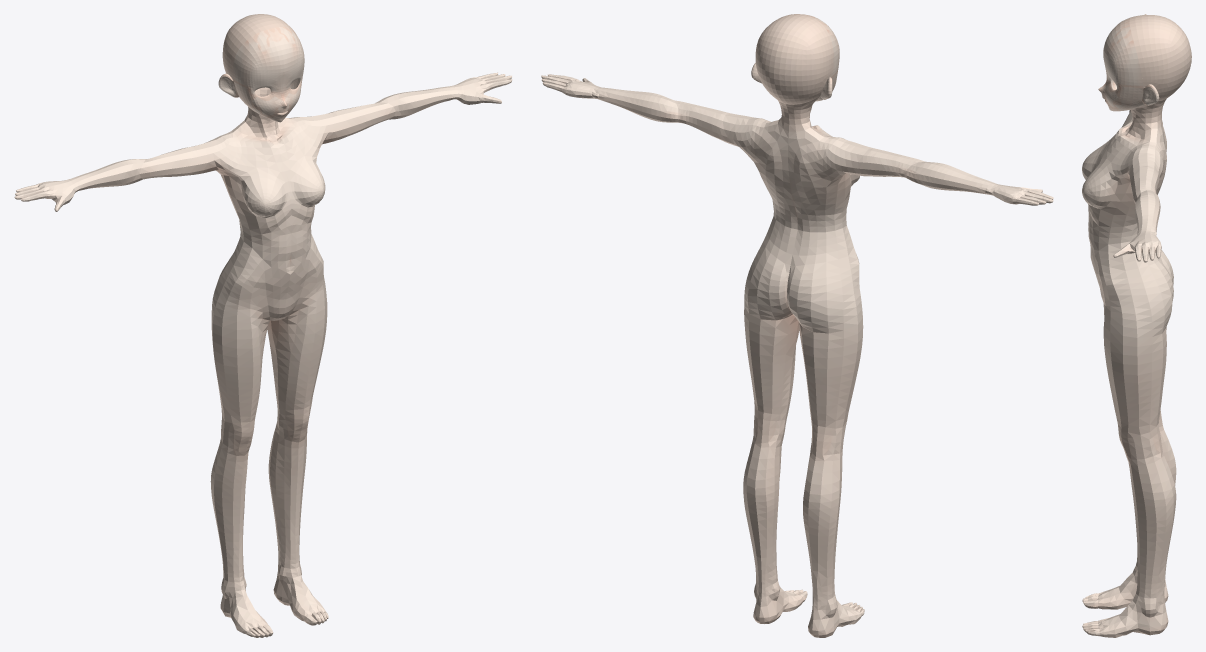
Rendered from nude-feminine-full.obj.
3 renders of one model, left to right at view 1: azimuth 30°, elevation 25°; view 2: azimuth 150°, elevation 25°; view 3: azimuth 270°, elevation 25°, orthographic. The views are drawn at different scales.
Visible parts, largest first — view 1: BodyFace_SKIN; view 2: BodyFace_SKIN; view 3: BodyFace_SKIN.
Boxes of the visible parts, x1=… form: BodyFace_SKIN: x1=14, y1=14, x2=512, y2=637; BodyFace_SKIN: x1=541, y1=14, x2=1053, y2=637; BodyFace_SKIN: x1=1082, y1=14, x2=1191, y2=637.
Bounding box in the file's own units: 1.39 × 1.58 × 0.2612.
1 material, 1 textured.
